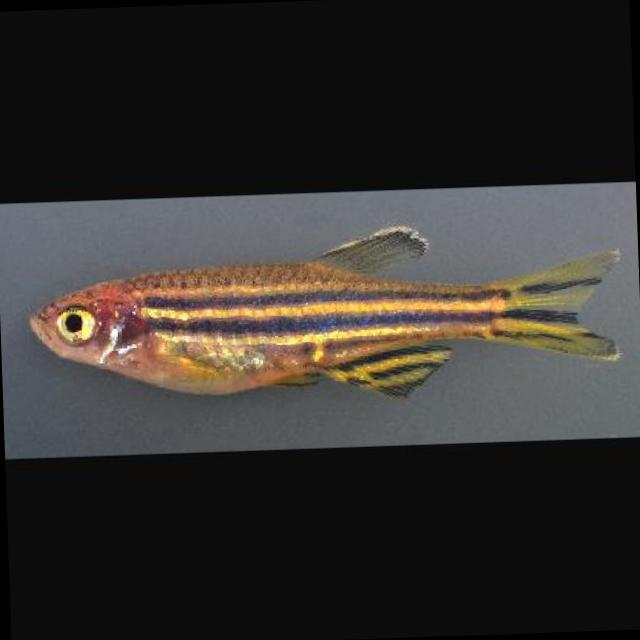ZebraFish: (30, 216, 622, 414)
